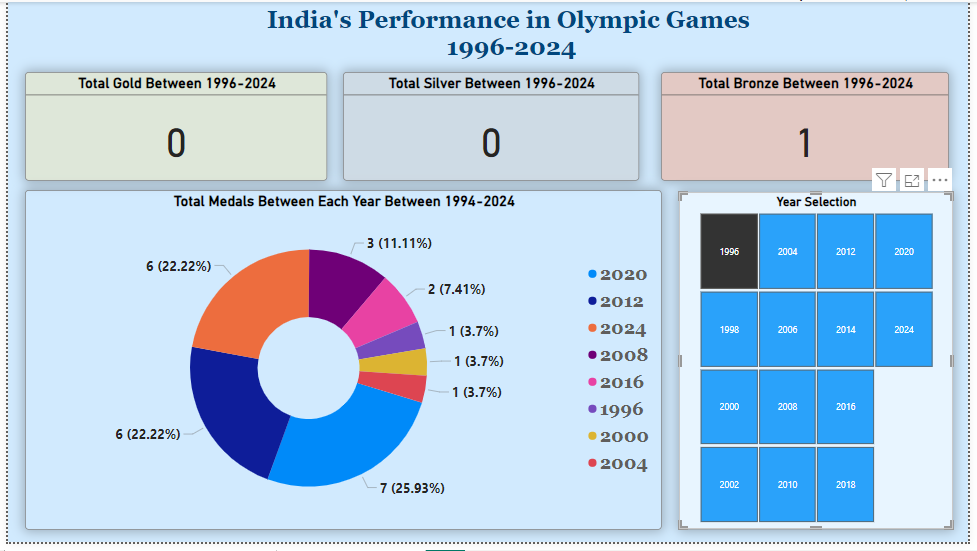

Layout of this report page (visuals, bound fields, positions):
{"tool":"powerbi","page":{"name":"India's performance","canvas":[1280,720],"ordinal":1},"visuals":[{"type":"donutChart","title":"Total Medals Between Each Year Between 1994-2024","fields":{"Category":["total medals per year by country.Year"],"Y":["Sum(total medals per year by country.Total)"]},"box":[22,250.5,849.2,452.8],"z":0},{"type":"card","title":"Total Gold Between 1996-2024","fields":{"Values":["Sum(olympics.Gold)"]},"box":[22,93.6,403.3,144.5],"z":1000},{"type":"card","title":"Total Silver Between 1996-2024","fields":{"Values":["Sum(olympics.Silver)"]},"box":[447.3,93.6,395,144.5],"z":2000},{"type":"card","title":"Total Bronze Between 1996-2024","fields":{"Values":["Sum(olympics.Bronze)"]},"box":[871.2,93.6,384,144.5],"z":3000},{"type":"slicer","title":"Year Selection","fields":{"Values":["olympics.Year"]},"box":[894.6,253.2,364.7,450.1],"z":4000},{"type":"textbox","title":"India''s Performance in Olympic Games Between 1994-2024","box":[141.8,0,1059.8,166.5],"z":5000}]}

Visuals, with their boxes in screenshot pixels (x1, y1, x2, y2), scaled from the page's 1280x720 canvas onto the 977x551 screenshot:
"Total Medals Between Each Year Between 1994-2024" donutChart: [x1=17, y1=192, x2=665, y2=538]
"Total Gold Between 1996-2024" card: [x1=17, y1=72, x2=325, y2=182]
"Total Silver Between 1996-2024" card: [x1=341, y1=72, x2=643, y2=182]
"Total Bronze Between 1996-2024" card: [x1=665, y1=72, x2=958, y2=182]
"Year Selection" slicer: [x1=683, y1=194, x2=961, y2=538]
"India''s Performance in Olympic Games Between 1994-2024" textbox: [x1=108, y1=0, x2=917, y2=127]
